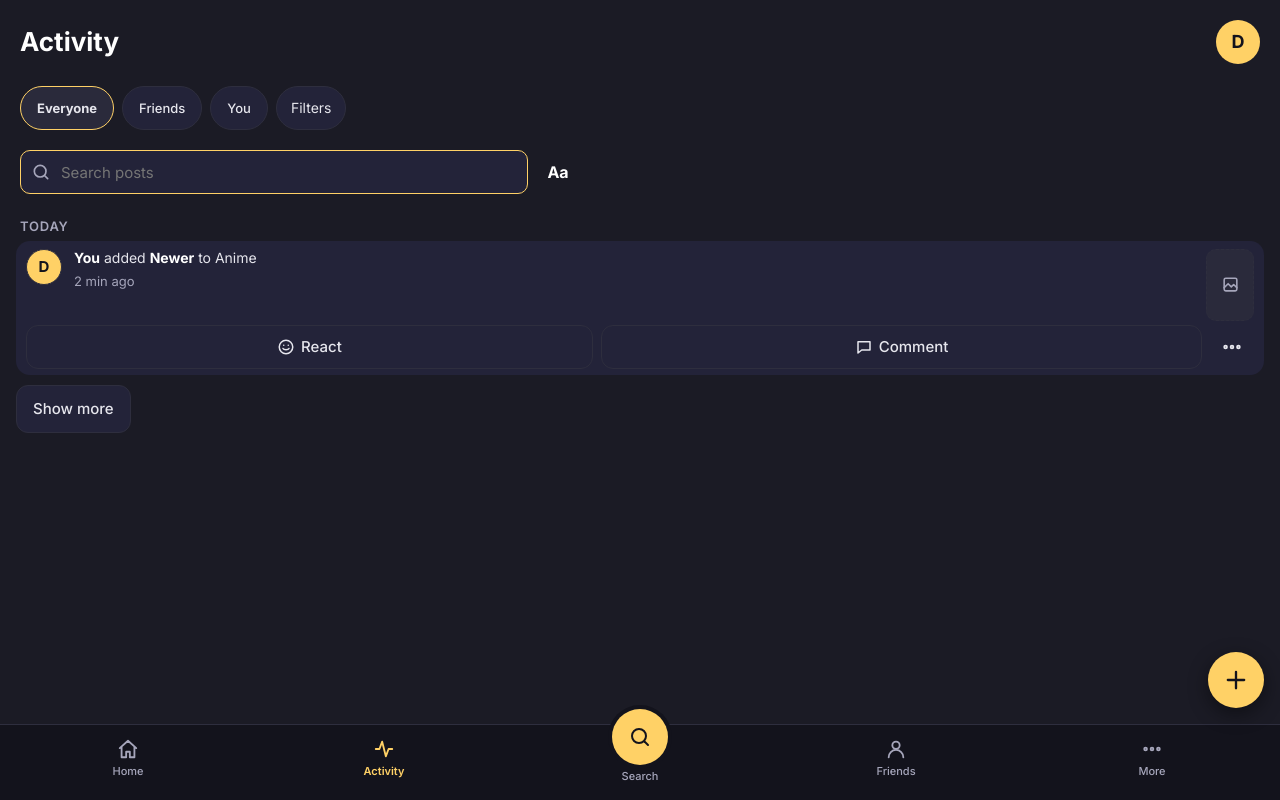
Test case: ActivityScreen › a failed Show more says "Couldn't load more." and keeps the loaded lines and the button
Check: the link "Newer" is shown, box [150, 249, 194, 266]
Check: the text "Couldn't load more." is not shown
Click the button "Show more": (73, 409) [16, 385, 131, 433]
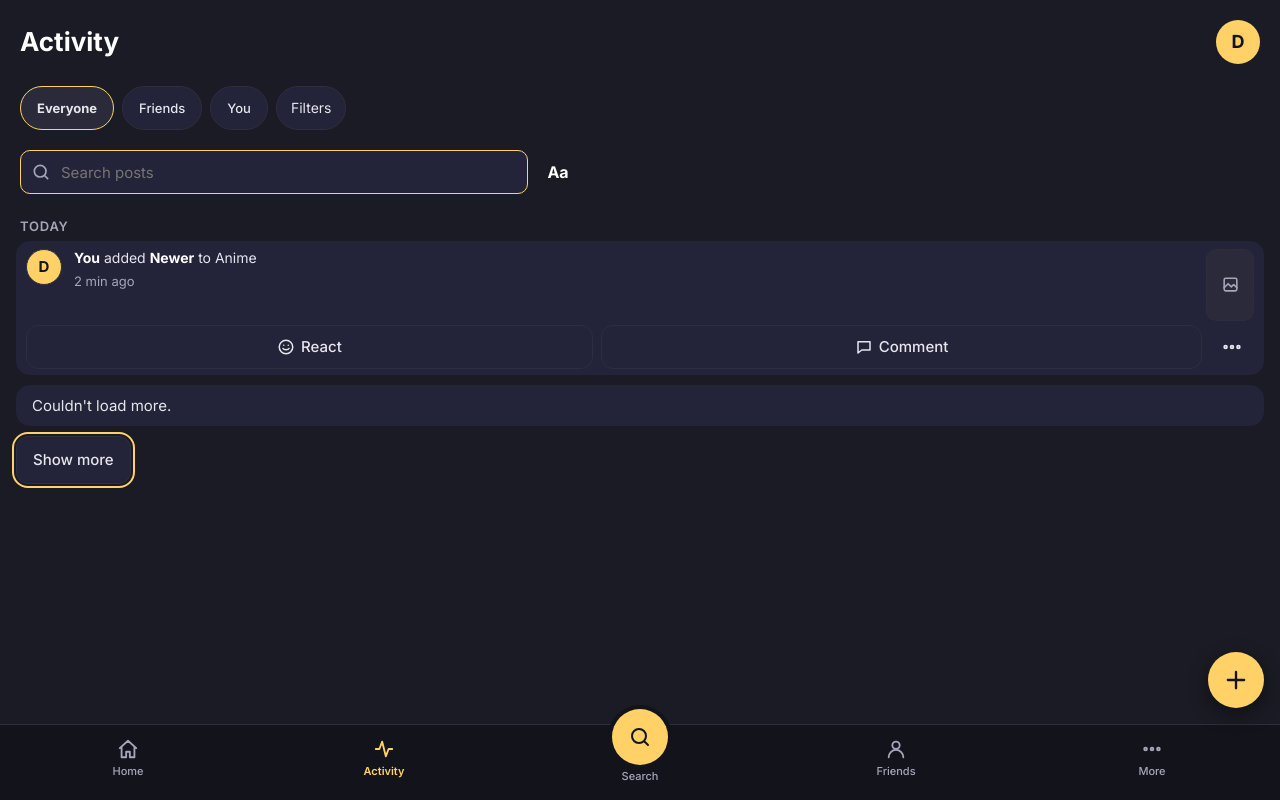
Check: the link "Newer" is shown, box [150, 249, 194, 266]
Check: the text "Couldn't load more." is shown, box [32, 395, 171, 416]
